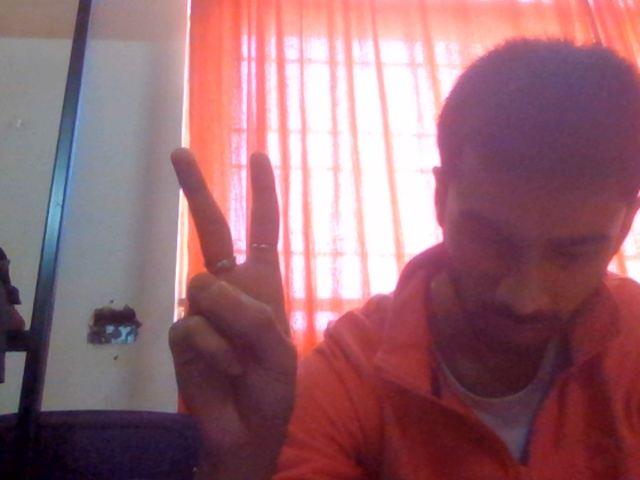V: (131, 138, 358, 460)
